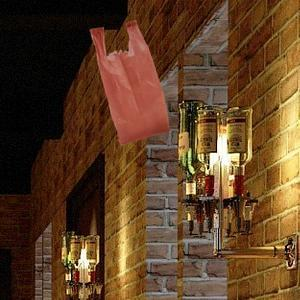plastic_bag: (86, 20, 176, 146)
